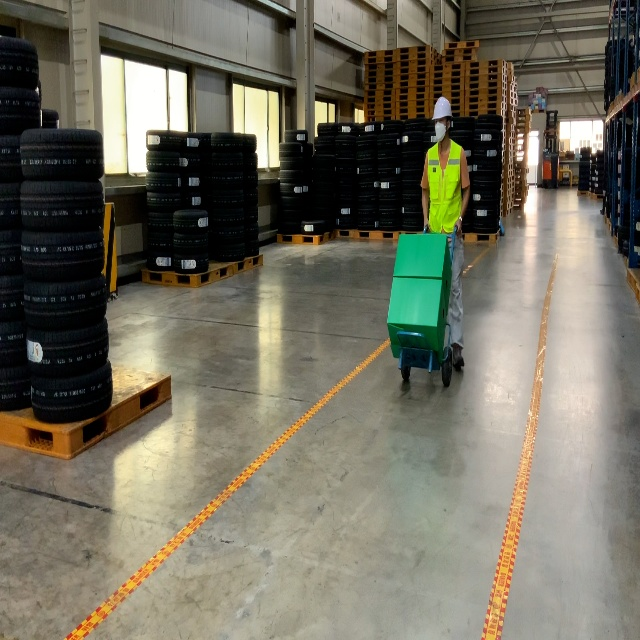Box: (387, 277, 447, 366), (393, 233, 453, 317)
Worker: (420, 96, 471, 372)
